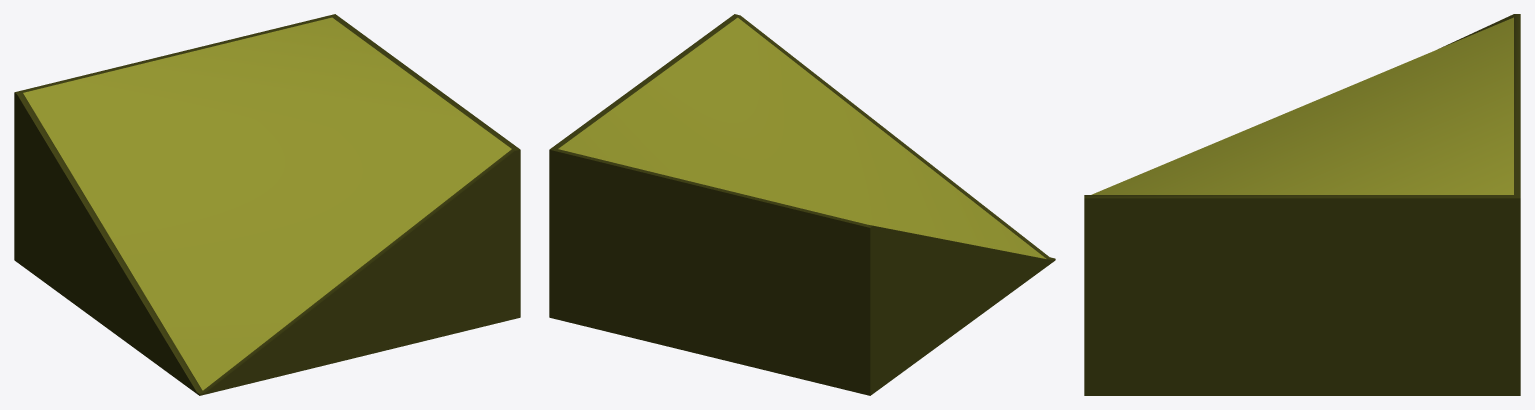
Rendered from Casilla 48.fbx.
3 renders of one model, left to right at view 1: azimuth 30°, elevation 25°; view 2: azimuth 150°, elevation 25°; view 3: azimuth 270°, elevation 25°, orthographic. The views are drawn at different scales.
Parts seen in each view (by area): view 1: pCube4; view 2: pCube4; view 3: pCube4.
Boxes of the visible parts, bbox=[...] form: pCube4: bbox=[14, 14, 520, 395]; pCube4: bbox=[549, 14, 1055, 395]; pCube4: bbox=[1084, 14, 1520, 395].
Size of the model in its own units: 200 by 100 by 200.
